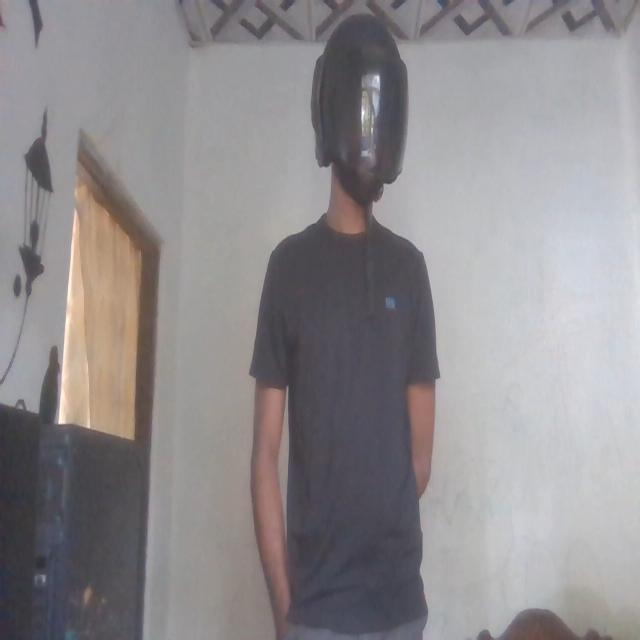Helmet_Wearer: (312, 1, 414, 280)
Person: (248, 0, 437, 640)
